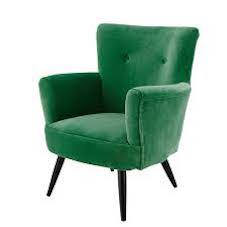chair: (34, 11, 206, 213)
